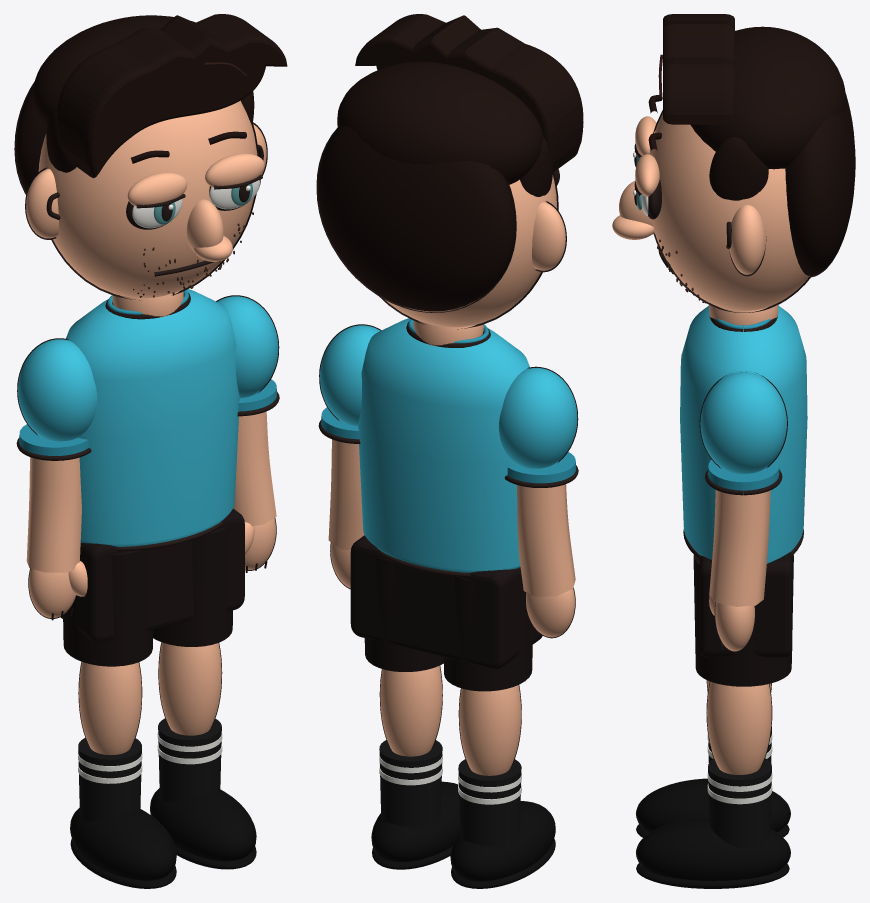
The model's file is tommy-toon.glb.
3 views of the same model, side by side, from view 1: azimuth 30°, elevation 25°; view 2: azimuth 150°, elevation 25°; view 3: azimuth 270°, elevation 25° (orthographic).
Visible parts, largest first — view 1: Cyan T-shirt, Face, Swept short quiff, Black shoe (×2), Black shorts (×2), Short cyan sleeve (×2), Bare calf (×2), Bare arm (×2), Shorts hips, Black sock (×2), Short hair crown, Half-lowered eyelid (×2) (+13 smaller); view 2: Cyan T-shirt, Back hair, Short hair crown, Shorts hips, Swept short quiff, Short cyan sleeve (×2), Bare calf (×2), Bare arm (×2), Black sock (×2), Black shoe (×2), Black shorts (×2), Face (+9 smaller); view 3: Cyan T-shirt, Face, Short hair crown, Black shoe (×2), Back hair, Swept short quiff, Short cyan sleeve, Bare arm, Bare calf, Shorts hips, Black sock, Black shorts (+10 smaller).
Part boxes in pixels (bbox=[...]): Cyan T-shirt: bbox=[66, 289, 239, 546]; Face: bbox=[38, 100, 257, 298]; Swept short quiff: bbox=[56, 14, 287, 178]; Black shoe (×2): bbox=[70, 789, 255, 880]; Black shorts (×2): bbox=[63, 526, 232, 666]; Short cyan sleeve (×2): bbox=[18, 296, 278, 441]; Bare calf (×2): bbox=[79, 642, 221, 755]; Bare arm (×2): bbox=[26, 411, 276, 572]; Shorts hips: bbox=[62, 508, 244, 642]; Black sock (×2): bbox=[78, 718, 221, 821]; Short hair crown: bbox=[33, 15, 195, 126]; Half-lowered eyelid (×2): bbox=[127, 153, 264, 207]; Cyan T-shirt: bbox=[358, 318, 529, 572]; Back hair: bbox=[318, 126, 515, 311]; Short hair crown: bbox=[337, 62, 543, 184]; Shorts hips: bbox=[350, 535, 542, 669]; Swept short quiff: bbox=[355, 14, 583, 172]; Short cyan sleeve (×2): bbox=[320, 325, 577, 468]; Bare calf (×2): bbox=[380, 665, 521, 775]; Bare arm (×2): bbox=[328, 439, 575, 596]; Black sock (×2): bbox=[379, 740, 521, 847]; Black shoe (×2): bbox=[372, 782, 554, 881]; Black shorts (×2): bbox=[364, 557, 532, 691]; Face: bbox=[385, 175, 557, 327]; Cyan T-shirt: bbox=[680, 305, 807, 563]; Face: bbox=[649, 113, 809, 311]; Short hair crown: bbox=[690, 26, 846, 169]; Black shoe (×2): bbox=[637, 779, 789, 880]; Back hair: bbox=[785, 97, 854, 275]; Swept short quiff: bbox=[663, 14, 734, 124]; Short cyan sleeve: bbox=[700, 372, 786, 473]; Bare arm: bbox=[709, 490, 770, 606]; Bare calf: bbox=[707, 681, 771, 774]; Shorts hips: bbox=[700, 552, 792, 657]; Black sock: bbox=[708, 758, 771, 848]; Black shorts: bbox=[693, 555, 793, 686].
Size of the model in its own units: 1.01 by 3.2 by 0.8424.
